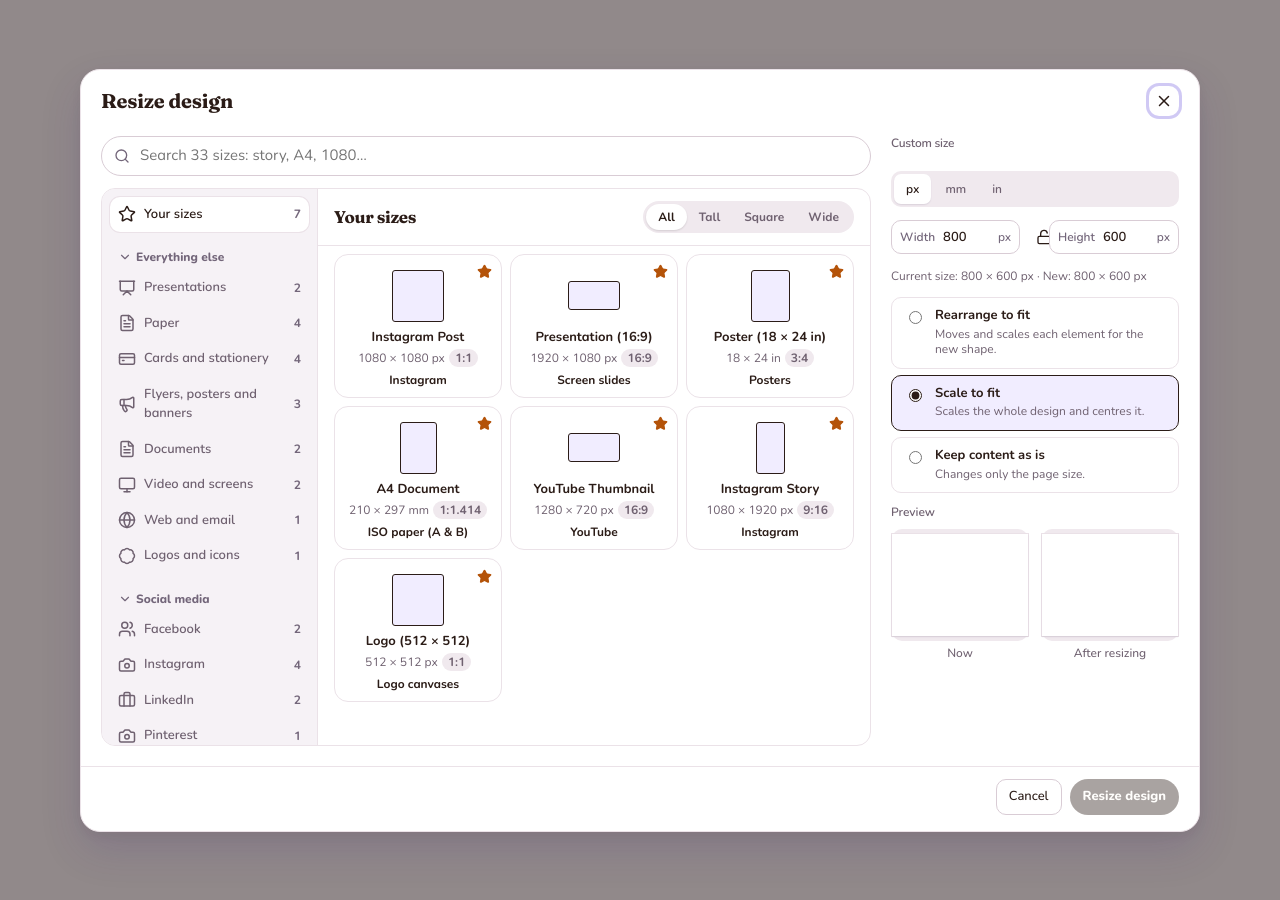
Resize dialog size fields › clamp 99999 to 20000 when the field is committed
The image size is (1280, 900).
Replace the text in the field labelled "Width" with "99999" at [966, 237], box top-left (941, 227), bottom-right (992, 247)
Then press Enter
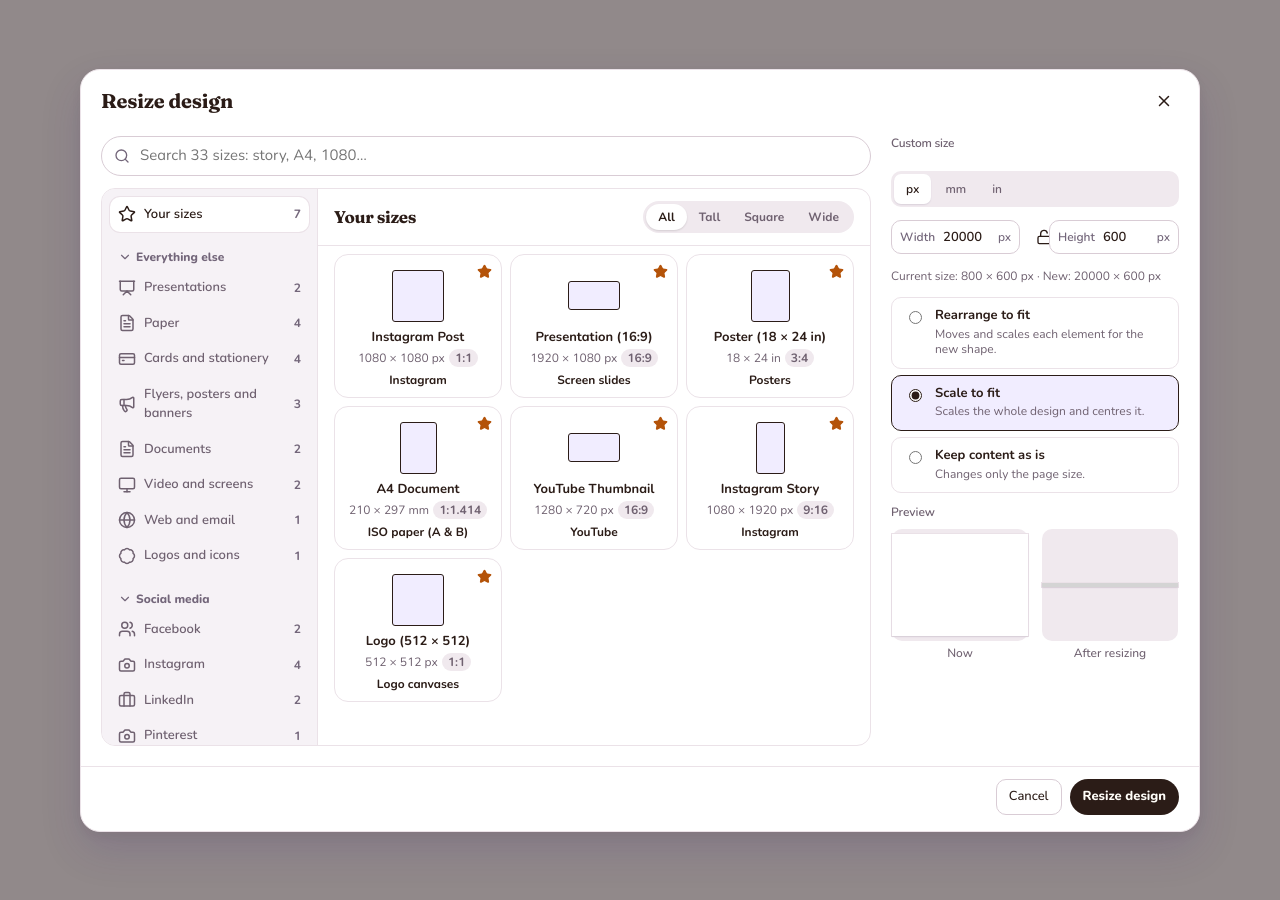
Check: the field labelled "Width" holds "20000", box top-left (941, 227), bottom-right (992, 247)
